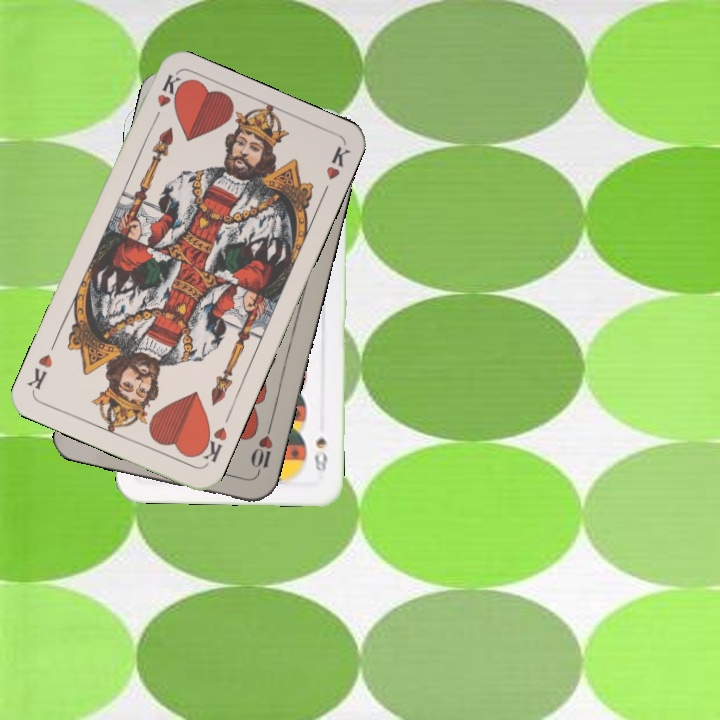H10: (246, 421, 275, 480)
HK: (148, 70, 183, 128), (193, 423, 230, 468)
S8: (310, 434, 330, 477)
